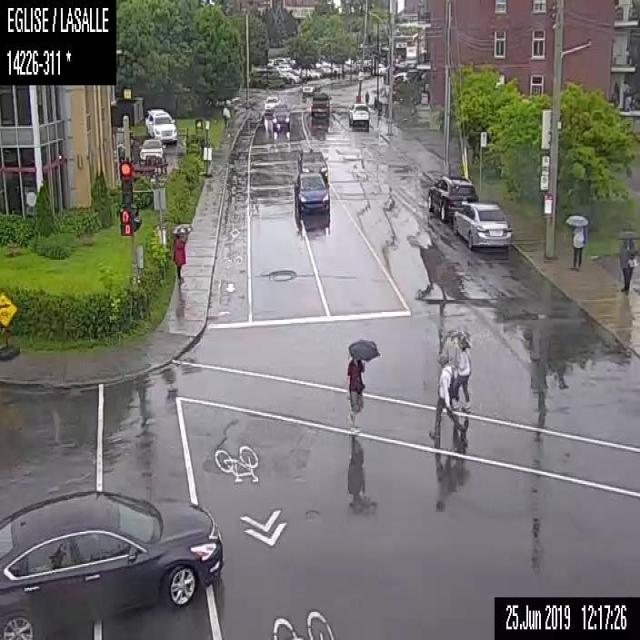pedestrian: (340, 337, 378, 432), (428, 348, 454, 439), (451, 329, 470, 414), (617, 229, 639, 292), (566, 212, 588, 268), (170, 223, 191, 280), (221, 105, 229, 128), (364, 89, 369, 107)
vehicle: (0, 488, 224, 639), (452, 198, 510, 253), (426, 174, 479, 223), (294, 171, 329, 212), (144, 108, 177, 144), (296, 147, 328, 182), (138, 137, 165, 162), (347, 101, 370, 128), (309, 92, 332, 117), (272, 105, 290, 131), (262, 94, 280, 115), (302, 80, 321, 95), (280, 71, 300, 84), (300, 67, 322, 78)
